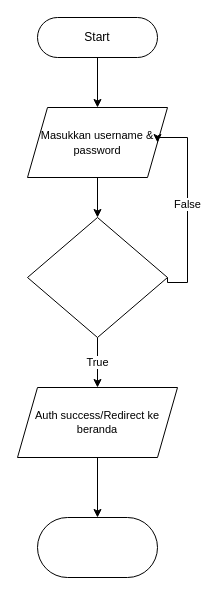
Image size: 218x603. Some labels were removed from this diagram. Each missing label, with the centre of its shape:
"End" goes at (97,547).
"Username & password valid?" goes at (97,277).
